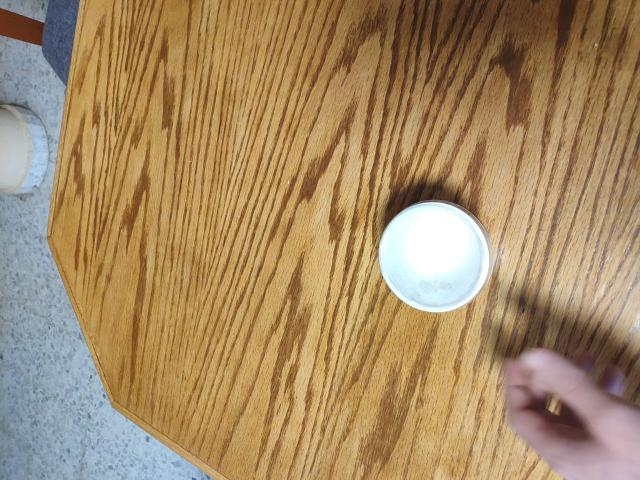cotage: (365, 202, 508, 324)
